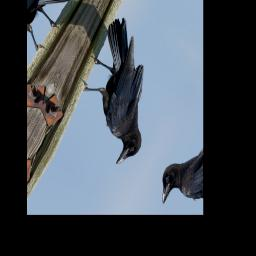Crow: (61, 11, 183, 173)
